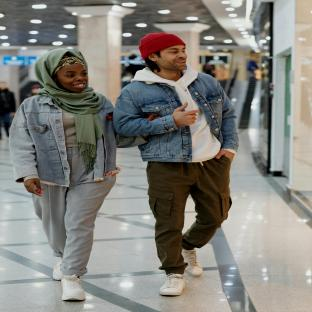Human: (10, 49, 145, 300), (114, 33, 239, 296)
